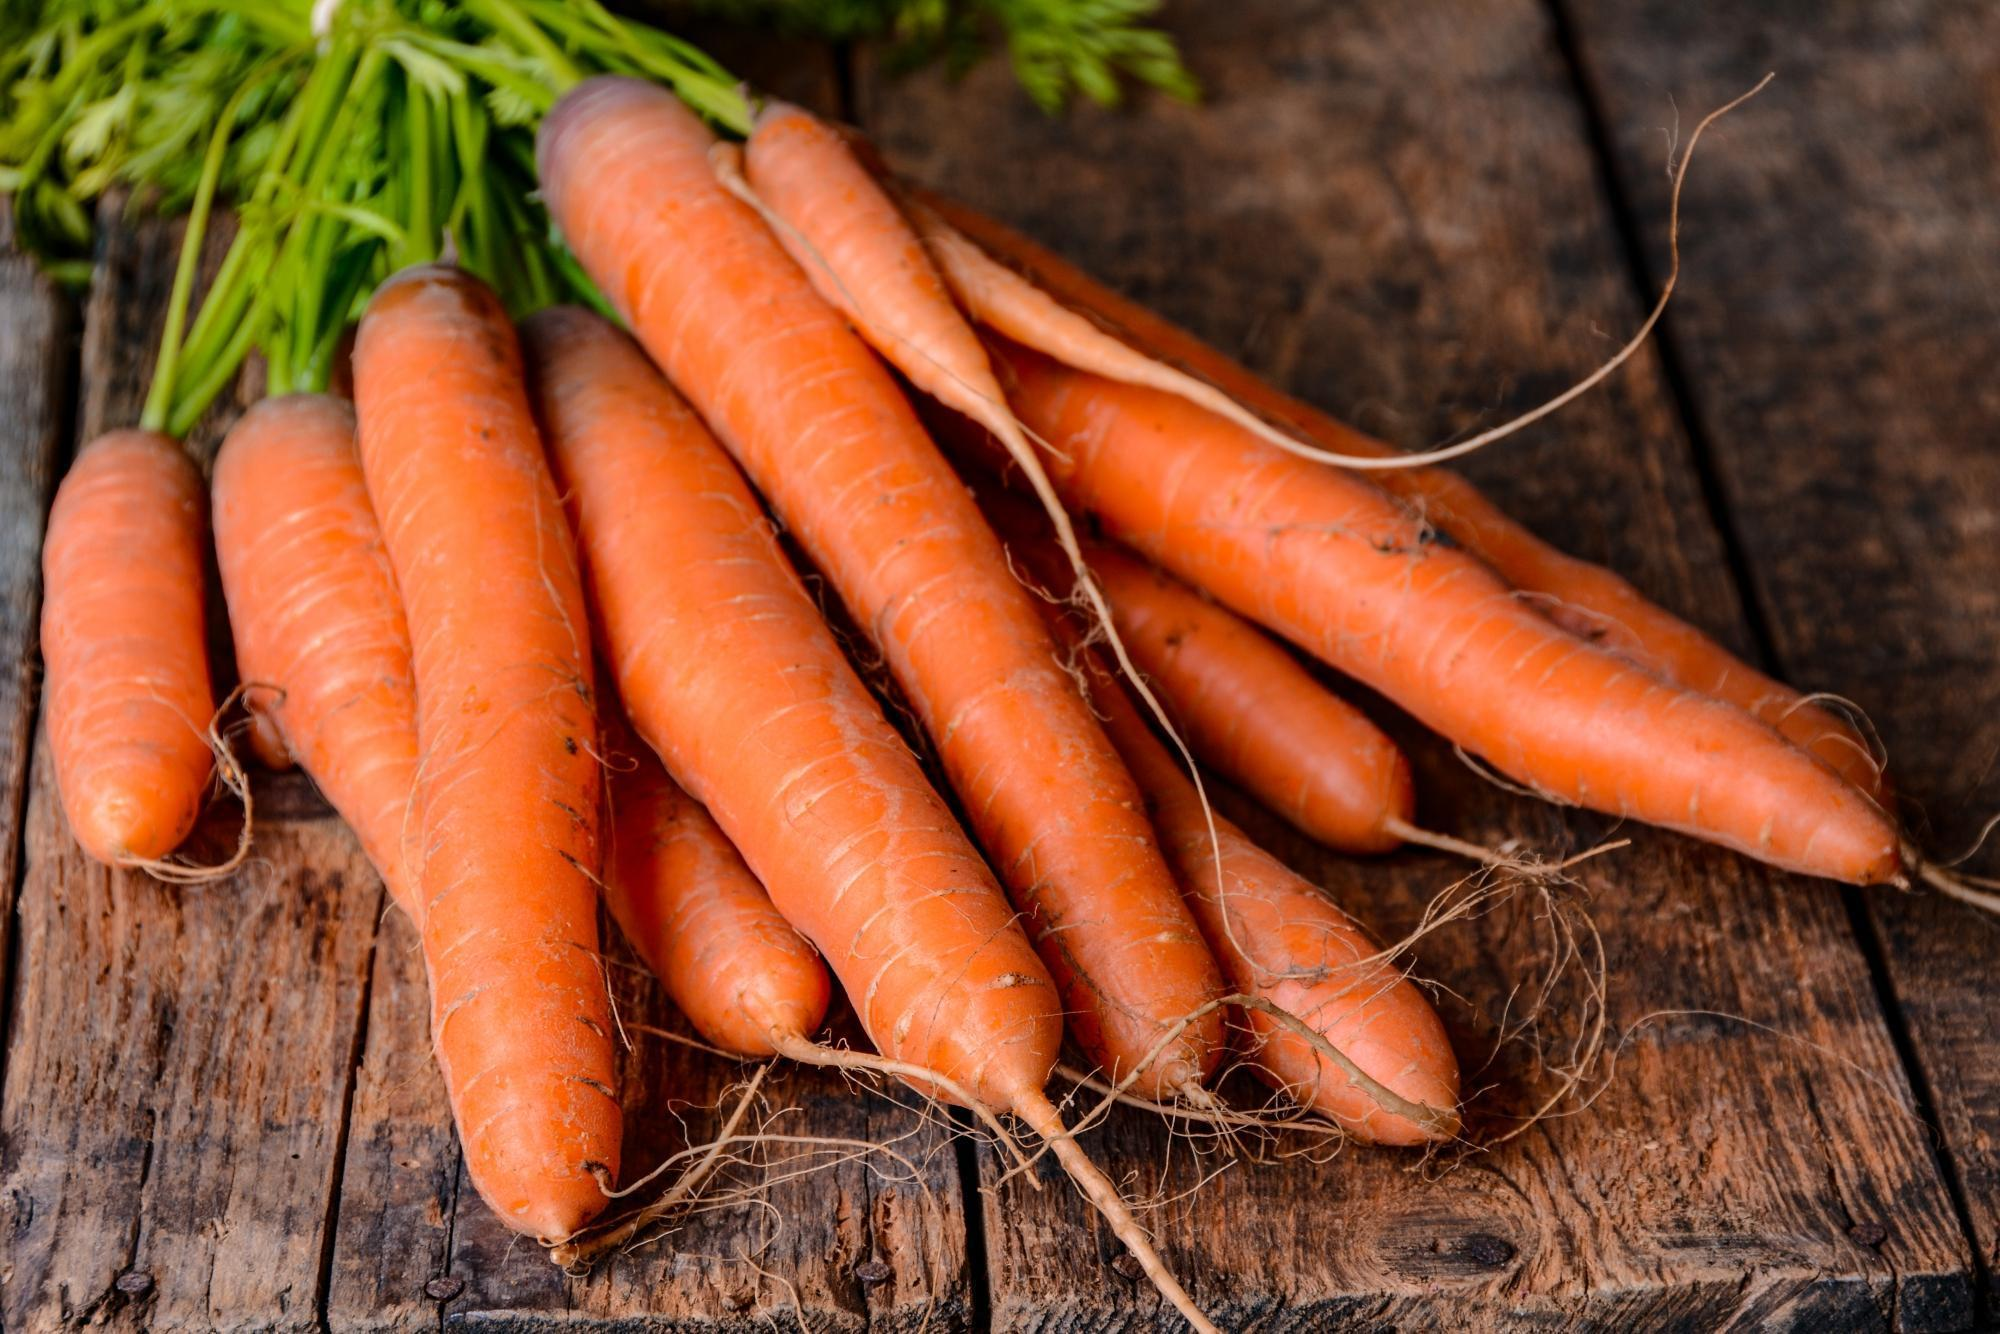carrot: (51, 70, 1766, 1231), (536, 54, 1958, 920), (320, 1, 635, 1268), (7, 25, 214, 934)
